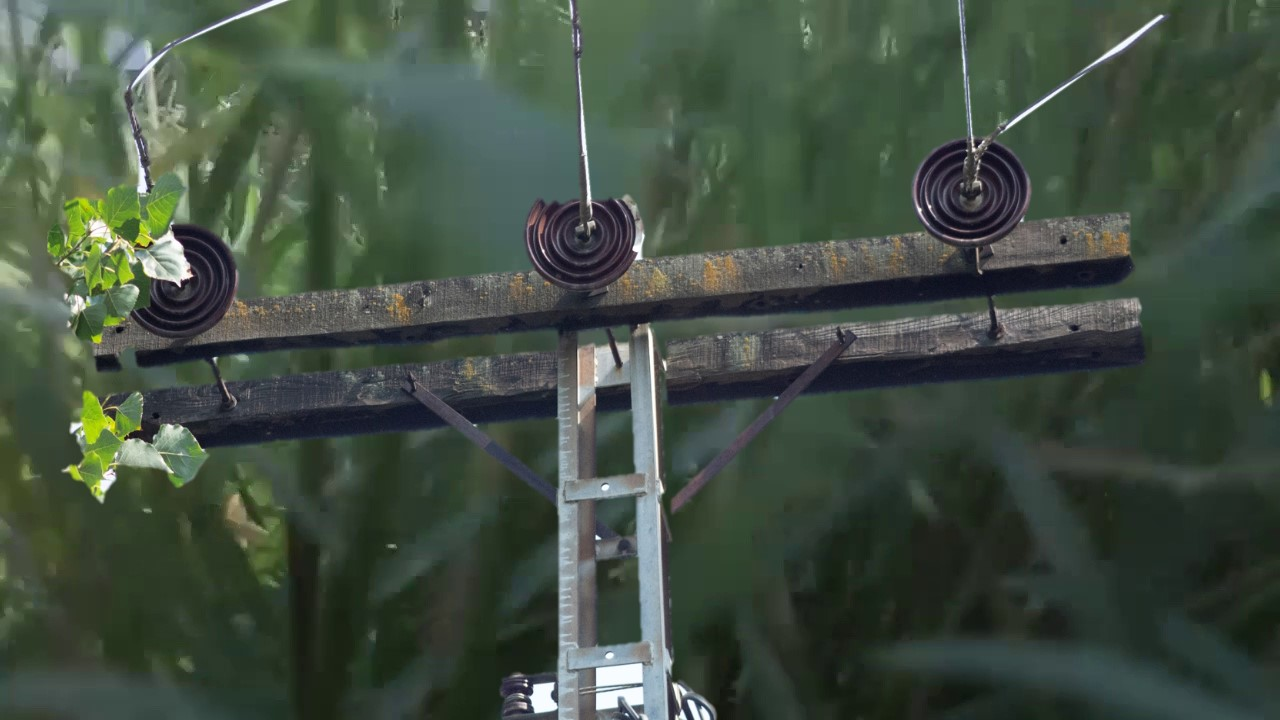defect_disc: (521, 189, 649, 296)
insulator_disc: (910, 135, 1035, 253), (152, 221, 244, 338)
